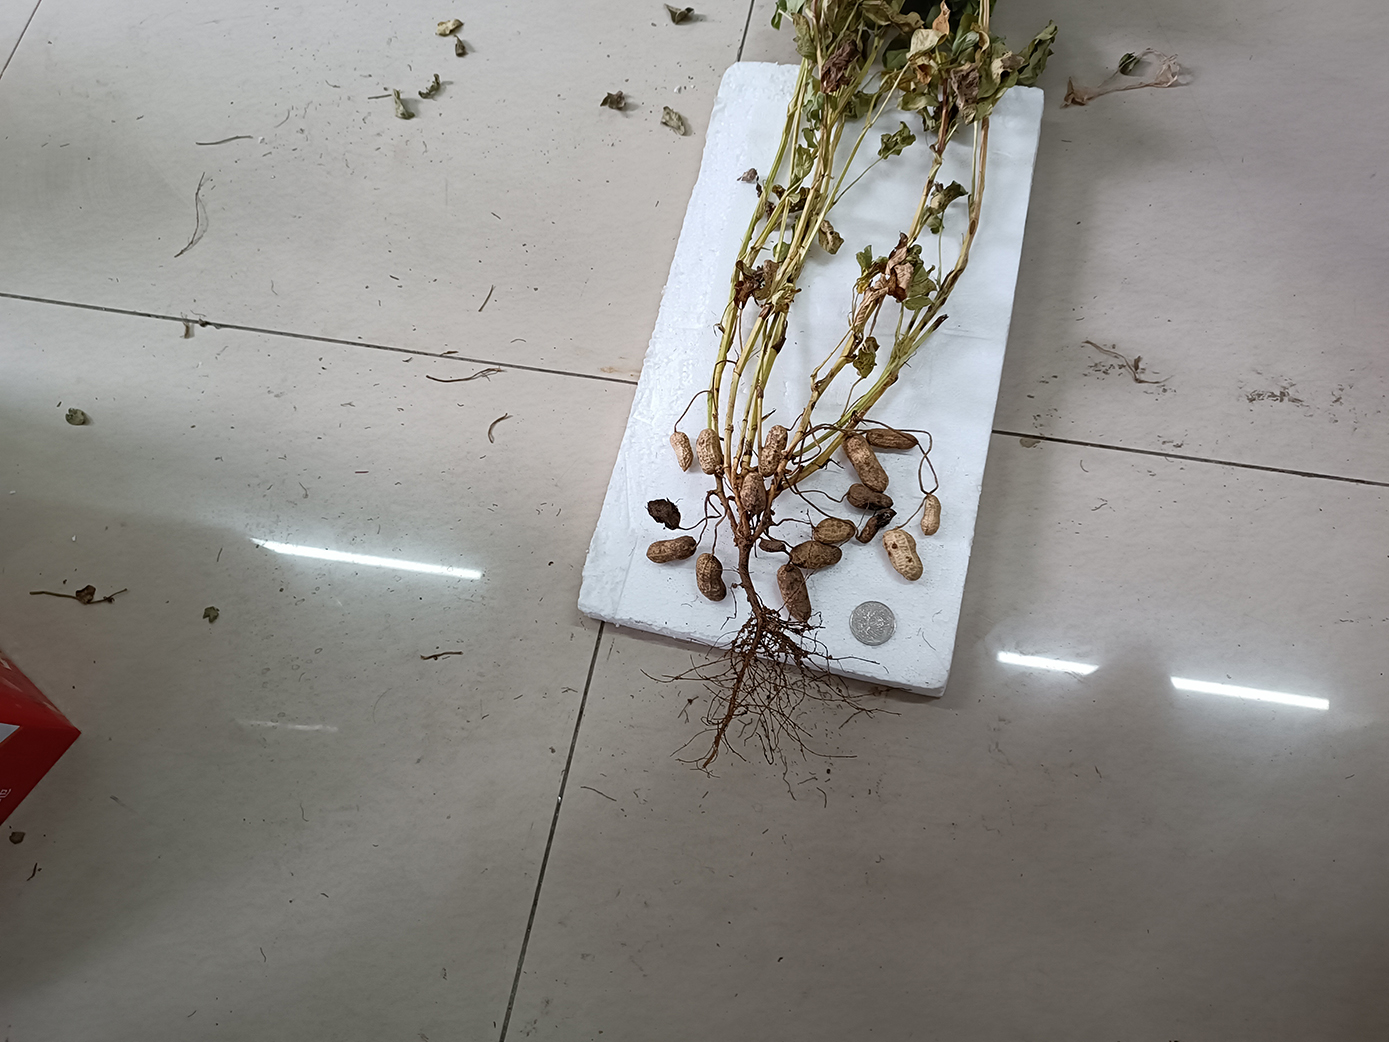h: (844, 433, 889, 493), (882, 529, 923, 581), (696, 553, 727, 602), (695, 428, 725, 475), (740, 471, 767, 513), (812, 517, 855, 544), (670, 431, 694, 473), (921, 494, 941, 536)
l: (777, 564, 812, 624), (759, 424, 788, 478), (788, 540, 842, 569), (646, 535, 698, 563), (857, 508, 896, 544), (847, 483, 894, 510), (645, 497, 681, 530), (867, 428, 918, 450), (759, 539, 786, 553)
